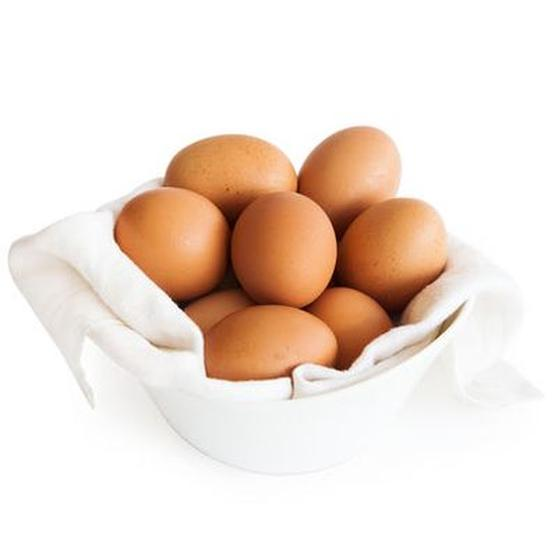egg: (106, 190, 234, 299), (225, 185, 333, 305)
